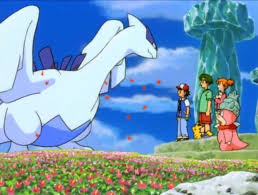lugia: (121, 13, 158, 59)
